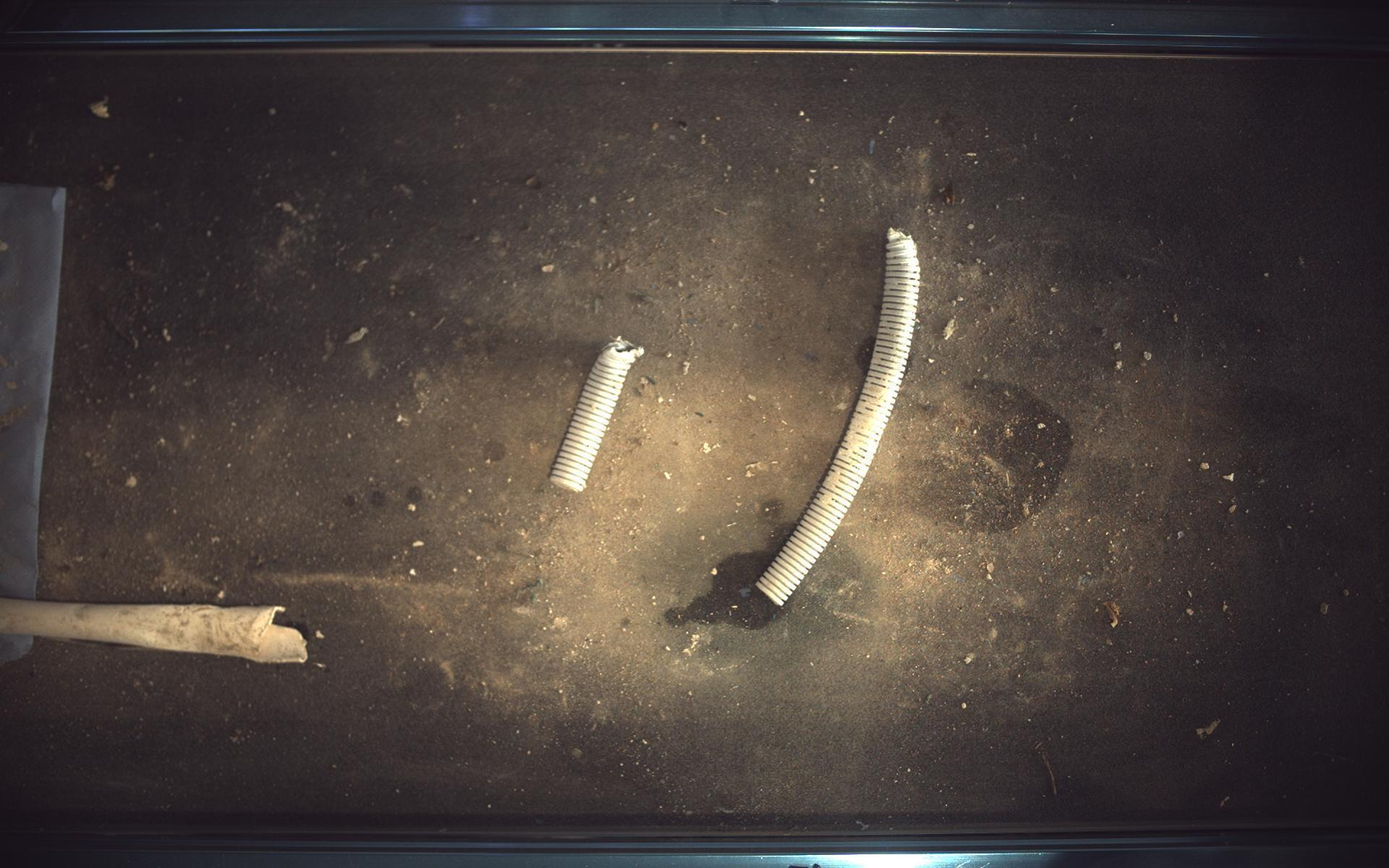pipes: (757, 227, 922, 608), (1, 599, 306, 664), (551, 336, 645, 493)
